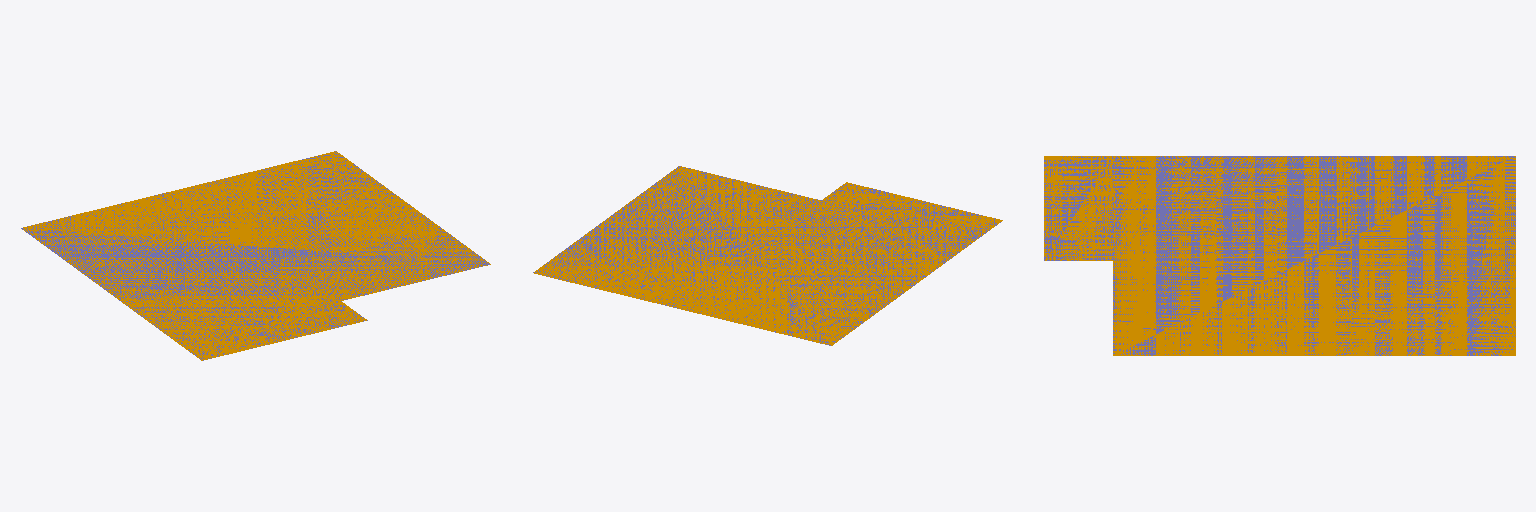
URDF robot description (granite):
<?xml version="1.0"?>

<!-- Copyright (c) 2017, United States Government, as represented by the     -->
<!-- Administrator of the National Aeronautics and Space Administration.     -->
<!--                                                                         -->
<!-- All rights reserved.                                                    -->
<!--                                                                         -->
<!-- The Astrobee platform is licensed under the Apache License, Version 2.0 -->
<!-- (the "License"); you may not use this file except in compliance with    -->
<!-- the License. You may obtain a copy of the License at                    -->
<!--                                                                         -->
<!--     http://www.apache.org/licenses/LICENSE-2.0                          -->
<!--                                                                         -->
<!-- Unless required by applicable law or agreed to in writing, software     -->
<!-- distributed under the License is distributed on an "AS IS" BASIS,       -->
<!-- WITHOUT WARRANTIES OR CONDITIONS OF ANY KIND, either express or         -->
<!-- implied. See the License for the specific language governing            -->
<!-- permissions and limitations under the License.                          -->

<robot name="granite" xmlns:xacro="http://www.ros.org/wiki/xacro">
  <link name="body">
    <inertial>
      <mass value="1000"/>
      <origin xyz="0 0 0"/>
      <inertia ixx="1" ixy="-0" ixz="0" iyy="1" iyz="0"  izz="1"/>
    </inertial>
    <visual name="floor_visual">
      <origin xyz="0 0 0" rpy="0 0 0" />
      <geometry>
        <mesh filename="package://discower_cosmo/meshes/floor_area.dae"/>
      </geometry>
    </visual>
    <collision name='floor_collision_bottom'>
      <origin xyz="-1 -1 0" rpy="0 0 0" />
      <geometry>
        <box size="5 5 0.01" />
      </geometry>
      <gazebo>
        <surface>
          <contact>
            <collide_bitmask>0x01</collide_bitmask>
          </contact>
        </surface>
      </gazebo>
    </collision>
    <collision name='collision_top_wall'>
      <origin xyz="0 1.65 0.0" rpy="0 0 1.5708" />
      <geometry>
        <box size="3.45 0.04 0.04" />
      </geometry>
      <gazebo>
        <surface>
          <contact>
            <collide_bitmask>0x01</collide_bitmask>
          </contact>
        </surface>
      </gazebo>
    </collision>
    <collision name='collision_right_wall'>
      <origin xyz="2 3.4 0" rpy="0 0 0" />
      <geometry>
        <box size="4 0.04 0.04" />
      </geometry>
      <gazebo>
        <surface>
          <contact>
            <collide_bitmask>0x01</collide_bitmask>
          </contact>
        </surface>
      </gazebo>
    </collision>
    <collision name='collision_bottom_wall'>
      <origin xyz="3.05 0 0" rpy="0 0 0" />
      <geometry>
        <box size="1.9 0.04 0.04" />
      </geometry>
      <gazebo>
        <surface>
          <contact>
            <collide_bitmask>0x01</collide_bitmask>
          </contact>
        </surface>
      </gazebo>
    </collision>
    <collision name='collision_left_bottom_wall'>
      <origin xyz="3.05 0 0" rpy="0 0 0" />
      <geometry>
        <box size="1.9 0.04 0.04" />
      </geometry>
      <gazebo>
        <surface>
          <contact>
            <collide_bitmask>0x01</collide_bitmask>
          </contact>
        </surface>
      </gazebo>
    </collision>
    <collision name='collision_left_bottom_wall'>
      <origin xyz="2.1 -0.28 0" rpy="0 0 1.5708" />
      <geometry>
        <box size="0.58 0.04 0.04" />
      </geometry>
      <gazebo>
        <surface>
          <contact>
            <collide_bitmask>0x01</collide_bitmask>
          </contact>
        </surface>
      </gazebo>
    </collision>
    <collision name='collision_left_top_wall'>
      <origin xyz="1.34 -0.58 0" rpy="0 0 0" />
      <geometry>
        <box size="1.5 0.04 0.04" />
      </geometry>
      <gazebo>
        <surface>
          <contact>
            <collide_bitmask>0x01</collide_bitmask>
          </contact>
        </surface>
      </gazebo>
    </collision>
    <collision name='collision_left_top_diag_wall'>
      <origin xyz="0.29 -0.34 0" rpy="0 0 0.66" />
      <geometry>
        <box size="0.78 0.04 0.04" />
      </geometry>
      <gazebo>
        <surface>
          <contact>
            <collide_bitmask>0x01</collide_bitmask>
          </contact>
        </surface>
      </gazebo>
    </collision>
  </link>
  <gazebo reference="body">
    <kp>100000.0</kp>
    <kd>100000.0</kd>
    <mu1>0.0</mu1>
    <mu2>0.</mu2>
    <fdir1>0 0 1</fdir1>
  </gazebo>
  <gazebo>
    <static>true</static>
  </gazebo>
</robot>

--- What the picture shows (computed from the rendered views, not written in the file) ---
3 views of the same robot in one strip: view 1: azimuth 30°, elevation 25°; view 2: azimuth 150°, elevation 25°; view 3: azimuth 270°, elevation 25° (orthographic).
Model granite with 1 links and 0 joints (none), rooted at body, posed all joints at 0.
Visible links, largest first — view 1: body; view 2: body; view 3: body.
Boxes of the visible links, left/top/right/bottom form: body: left=21, top=151, right=490, bottom=360; body: left=533, top=166, right=1002, bottom=345; body: left=1044, top=156, right=1515, bottom=355.
Bounding box of the posed robot: 4 × 3.98 × 0 m (x, y, z).
Meshes: 1 distinct files referenced, 1 mesh visuals loaded (1 Collada DAE).
